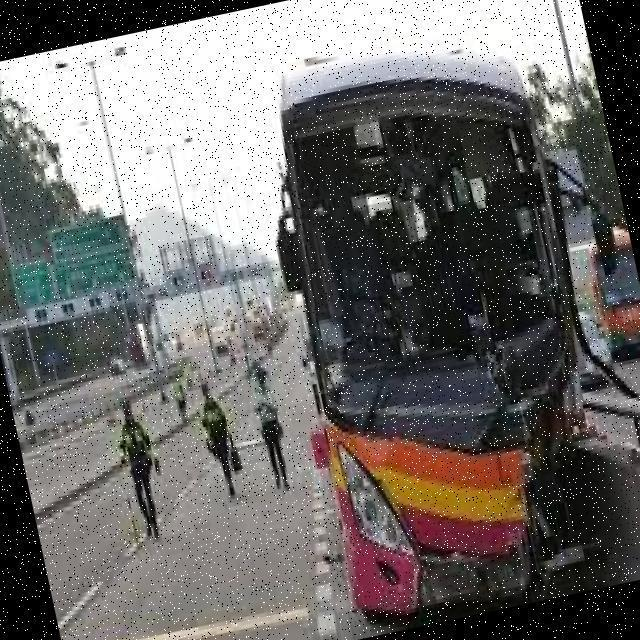accident: (251, 26, 640, 636)
